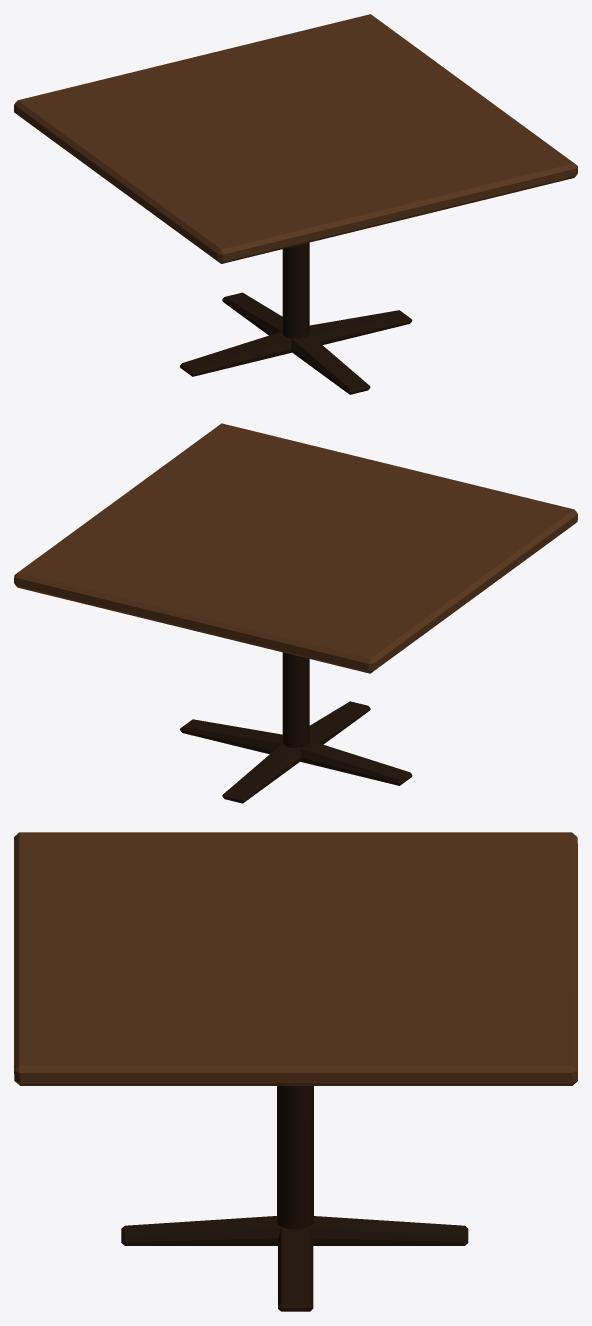
File: Table.fbx
3 renders of one model, top to bottom at view 1: azimuth 30°, elevation 25°; view 2: azimuth 150°, elevation 25°; view 3: azimuth 270°, elevation 25°, orthographic. The views are drawn at different scales.
Parts seen in each view (by area): view 1: Table; view 2: Table; view 3: Table.
Part boxes in pixels (<box>): Table: <box>14,14,577,394</box>; Table: <box>14,423,577,803</box>; Table: <box>14,832,577,1311</box>.
Bounding box in the file's own units: 317 × 181 × 317.
